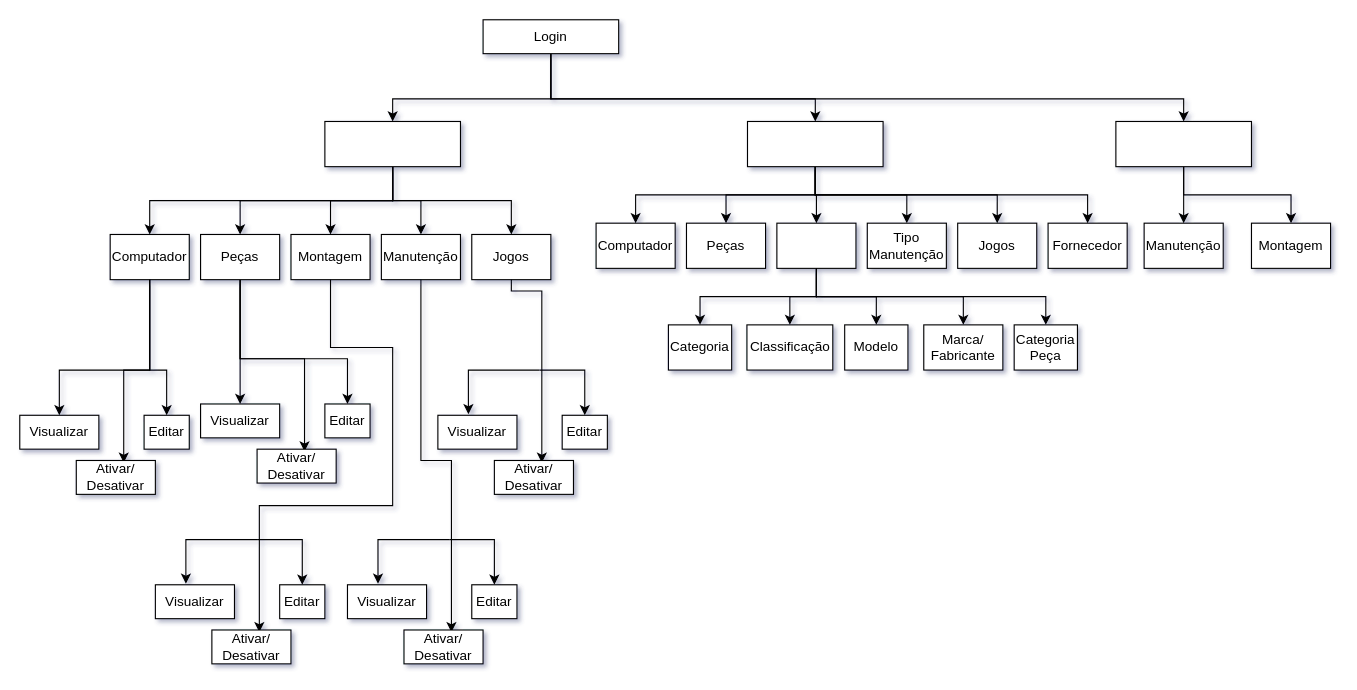
Some shapes in this 1357 by 690 pixel diagram are drawn without their labels. Here are the shapes that lost their labels. From the top down, the centre of each, then its label:
[392,143]: Listar
[814,143]: Cadastrar
[1183,143]: Pedidos
[816,245]: Cadastros
